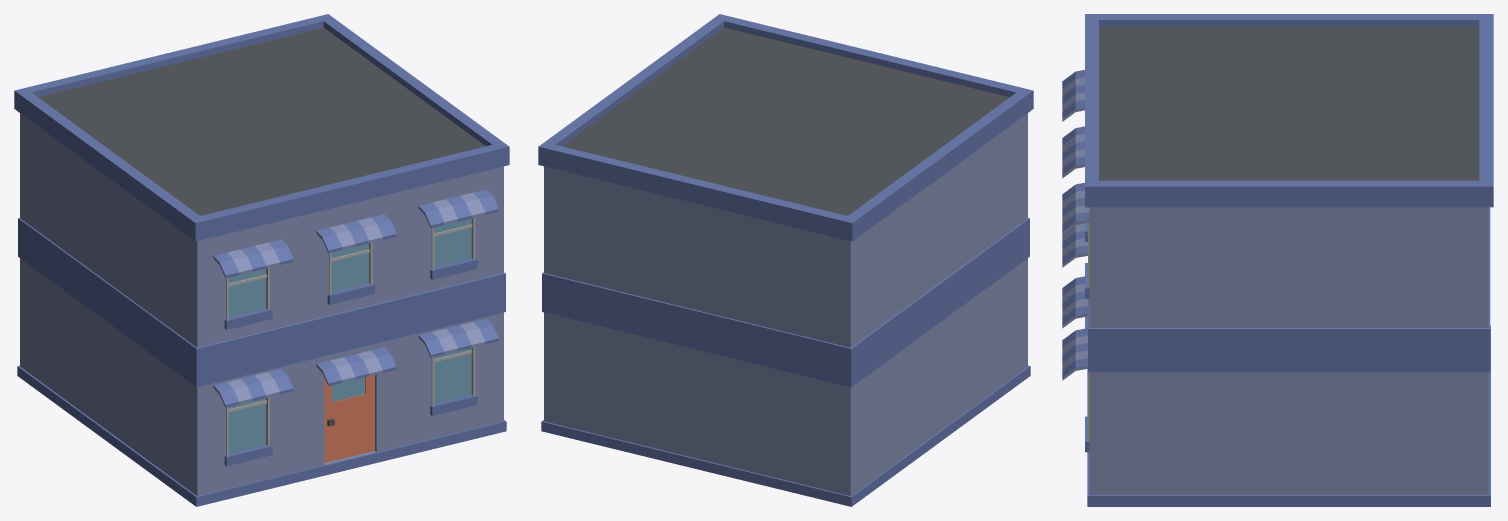
File: House_12.fbx
3 renders of one model, left to right at view 1: azimuth 30°, elevation 25°; view 2: azimuth 150°, elevation 25°; view 3: azimuth 270°, elevation 25°, orthographic. The views are drawn at different scales.
Parts seen in each view (by area): view 1: House_12; view 2: House_12; view 3: House_12.
Boxes of the visible parts, x1=… form: House_12: x1=14, y1=14, x2=509, y2=506; House_12: x1=538, y1=14, x2=1033, y2=506; House_12: x1=1062, y1=14, x2=1493, y2=506.
Size of the model in its own units: 14.04 by 12.18 by 14.81.
